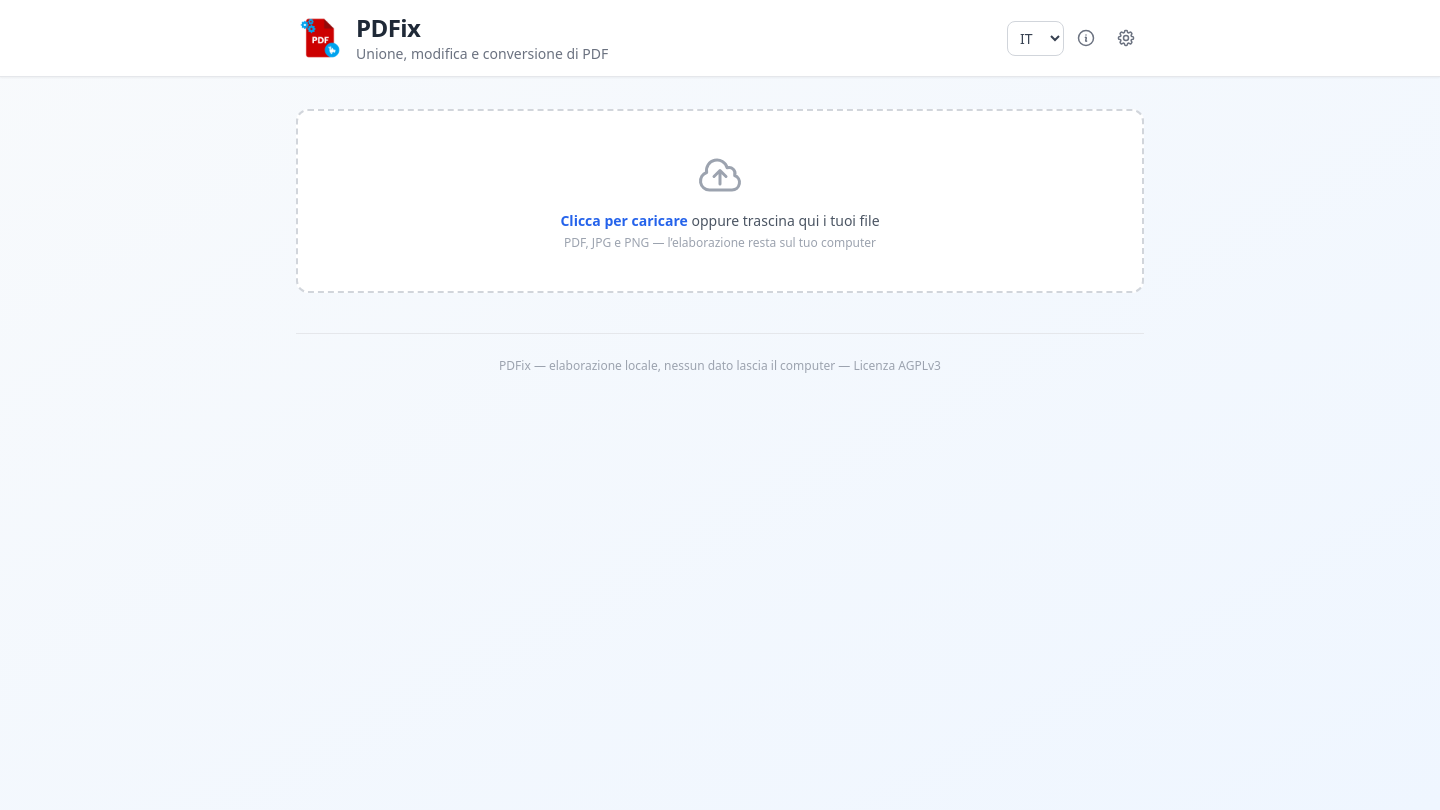
Test: App › esegue l operazione con i percorsi nell ordine corrente
Click the element with test id "uploader".
click(720, 201)  # box [296,109,1144,293]
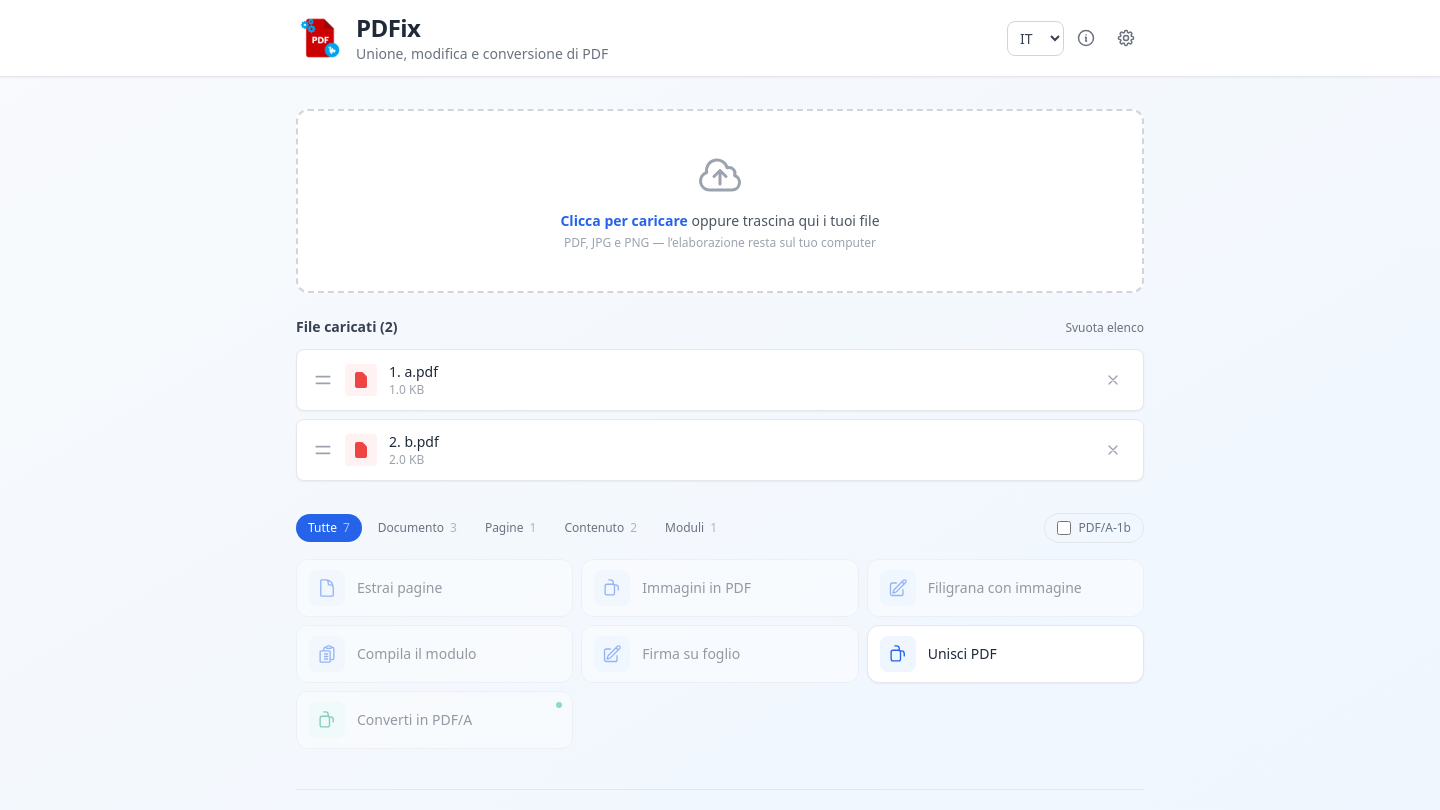
Click the button with test id "action-merge".
click(898, 654)  # box [867,625,1144,683]
(page scrolled)
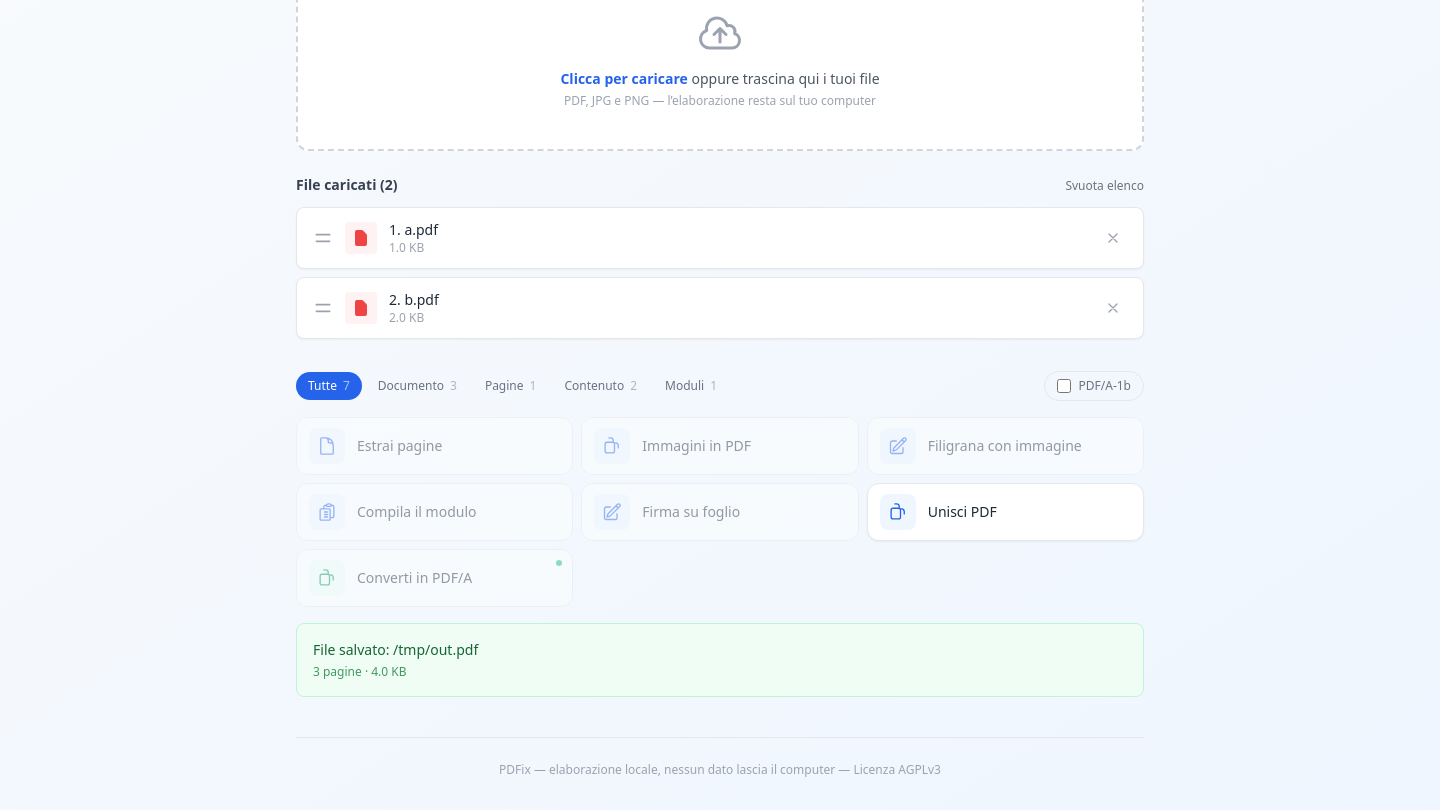
Check: the element with test id "status-success" shows "/tmp/out.pdf", box [313,640,478,659]
